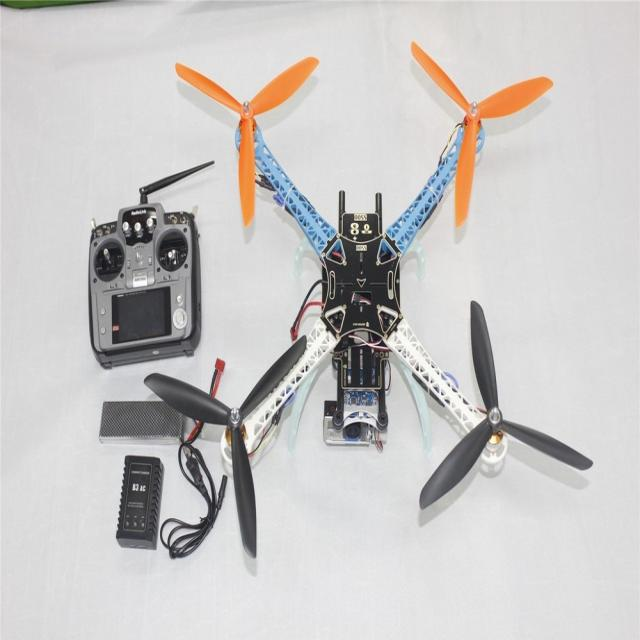drone: (178, 40, 624, 548)
